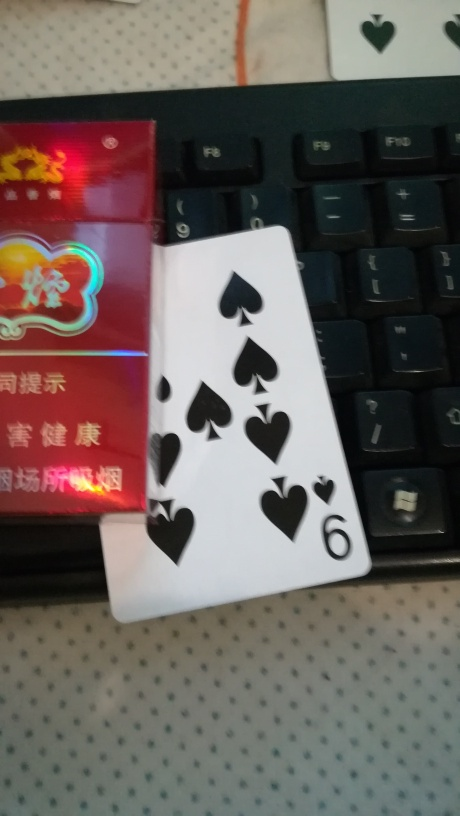ht 9: (20, 221, 375, 624)
